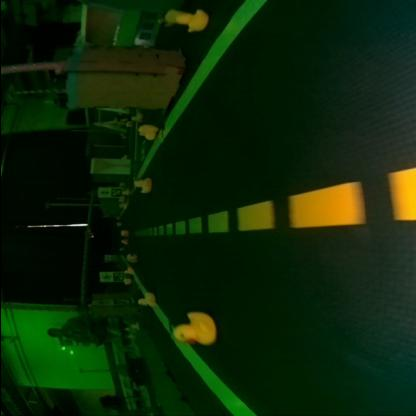Duckie: (172, 312, 208, 344), (179, 9, 203, 31), (133, 176, 149, 192), (137, 124, 155, 136), (137, 292, 153, 305), (130, 112, 140, 122), (121, 278, 128, 284), (125, 257, 133, 262), (119, 240, 127, 245), (125, 268, 132, 273), (130, 322, 136, 327), (121, 190, 128, 194), (119, 230, 127, 233)
QR code: (112, 298, 132, 304), (110, 188, 120, 197), (110, 272, 121, 280)
